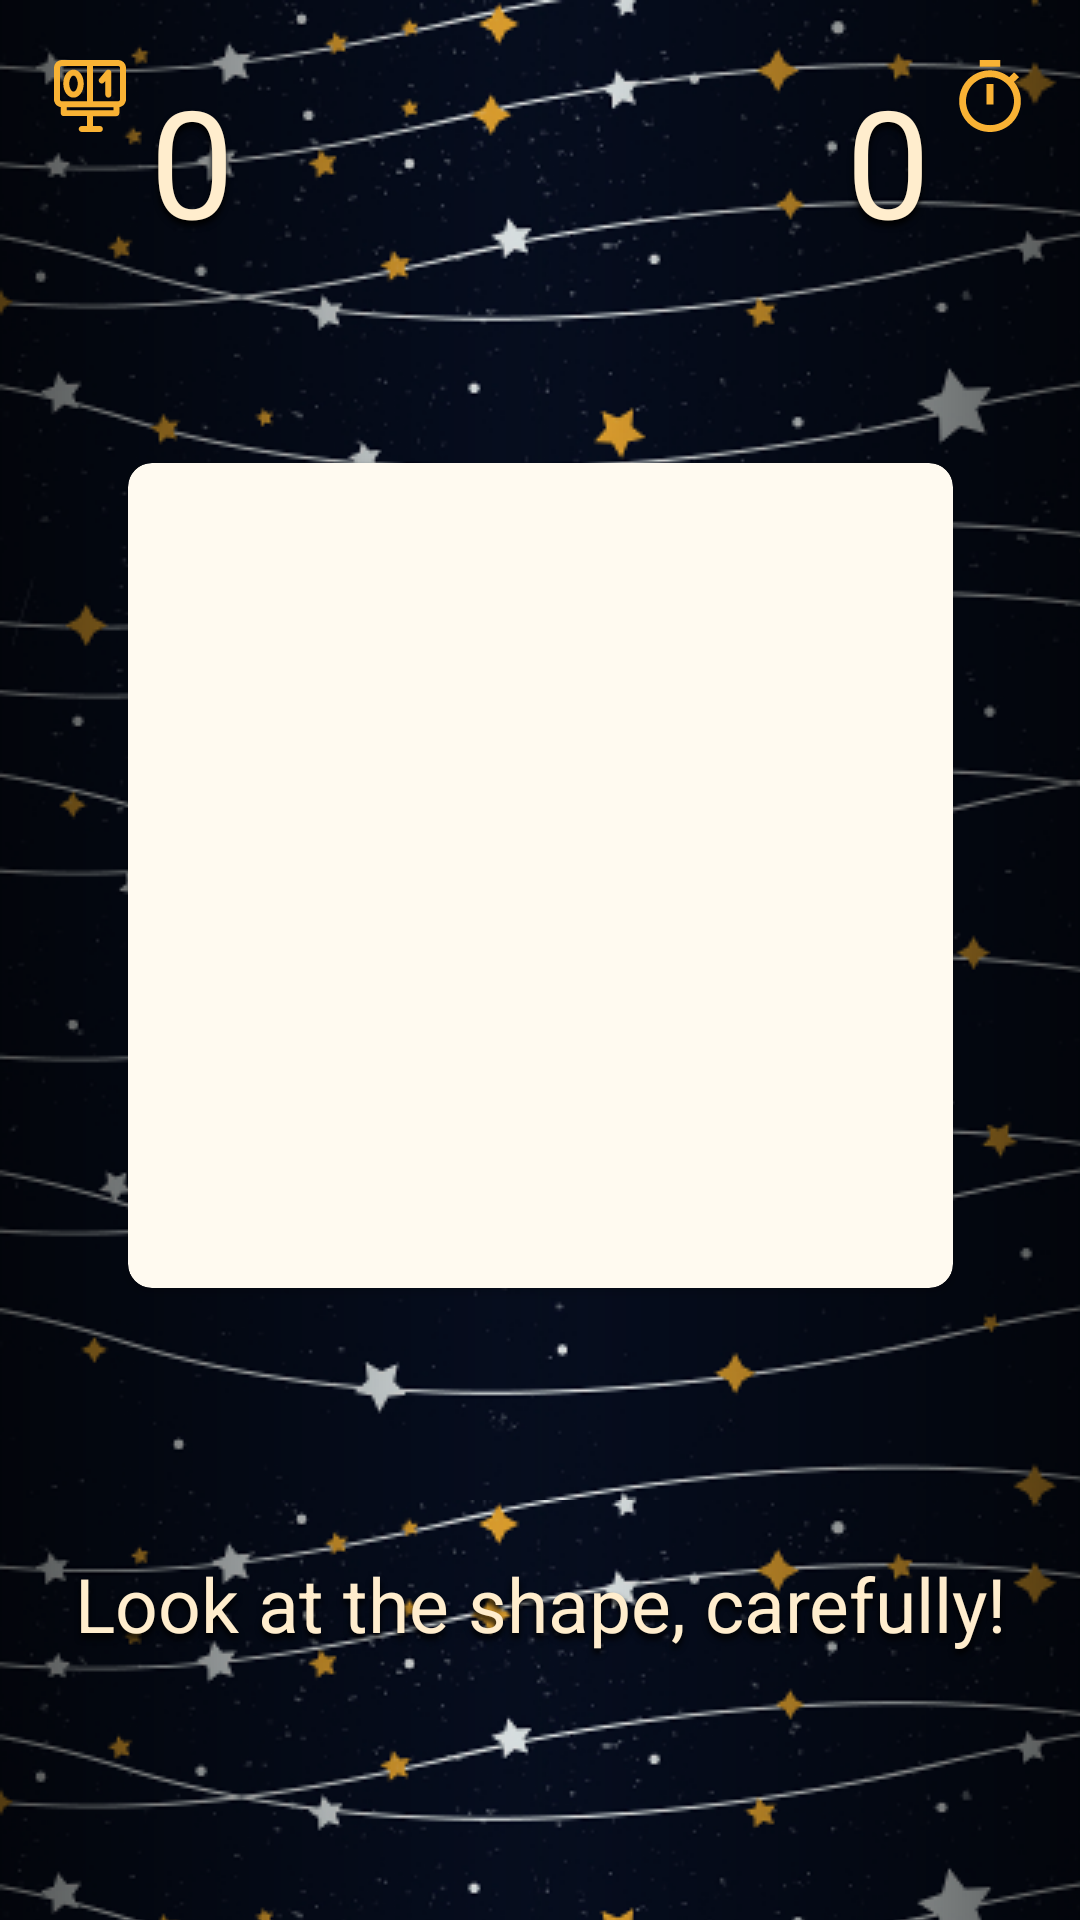

Named icons in this screenshot (1080*1920) and their centers, (x,y):
points: (90,96)
timer: (990,96)
